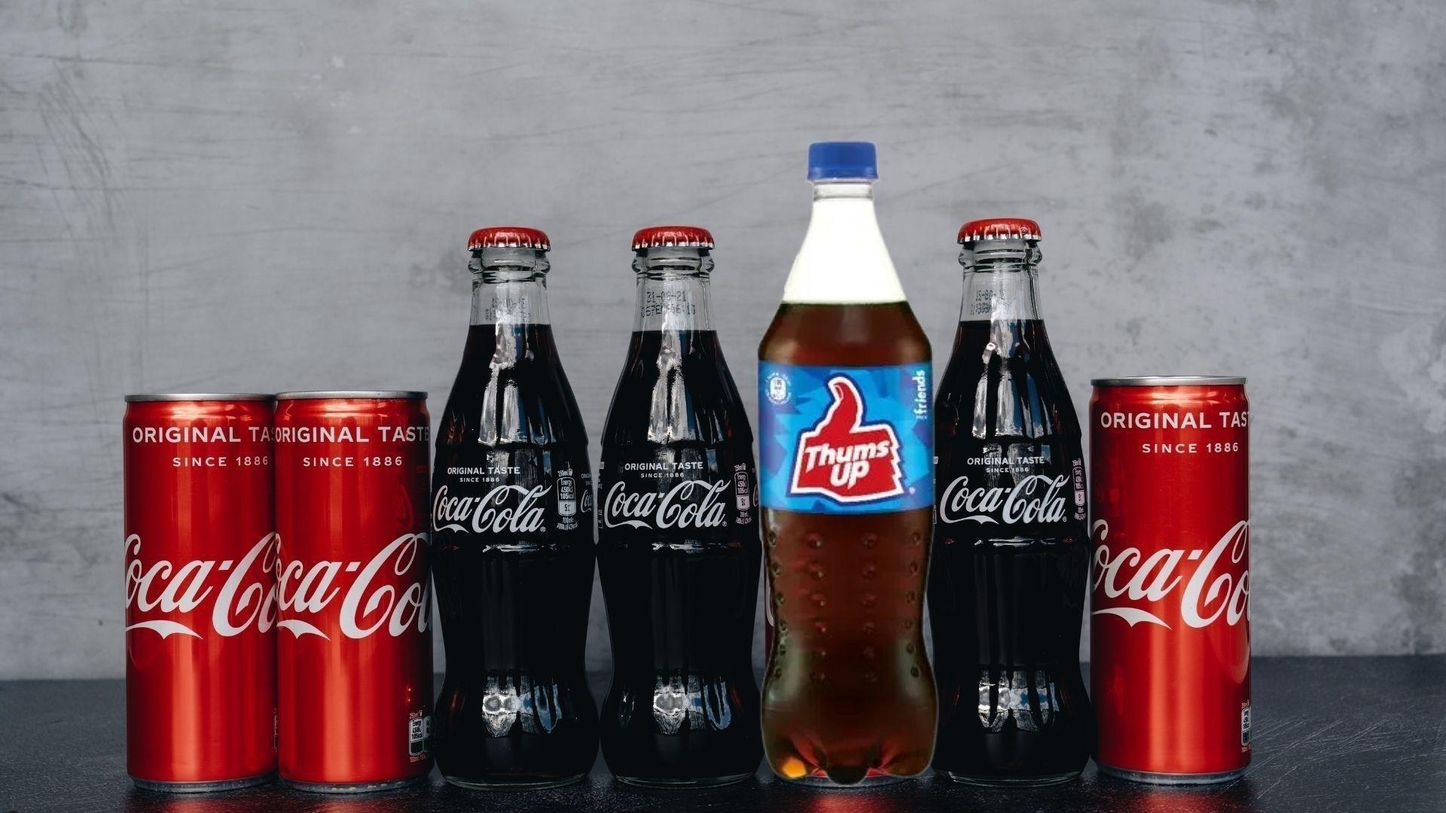bottle-glass: (423, 214, 606, 791), (589, 220, 766, 783), (926, 205, 1092, 784)
bottle-plastic: (750, 135, 943, 785)
tin can: (1083, 375, 1255, 788), (263, 386, 436, 790), (117, 387, 282, 793)
